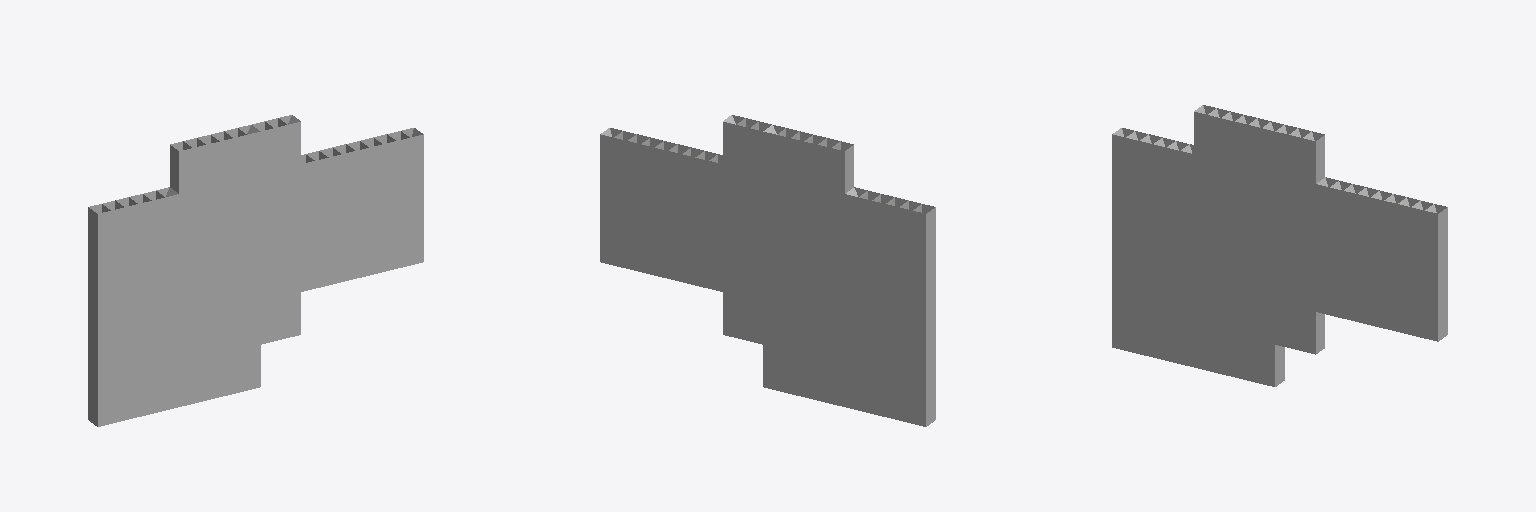
The model's file is 3d_Desolace-Pond 02.wlw.obj.
3 renders of one model, left to right at view 1: azimuth 30°, elevation 25°; view 2: azimuth 150°, elevation 25°; view 3: azimuth 330°, elevation 25°, orthographic.
Size of the model in its own units: 200 by 150 by 10.